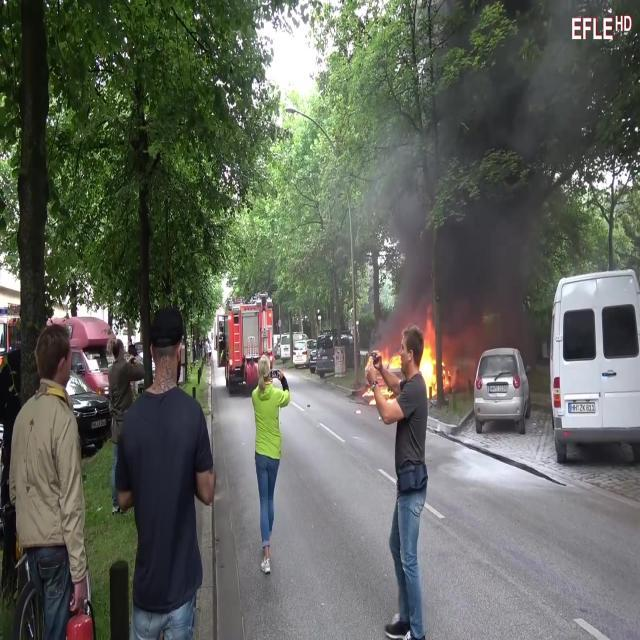Fire: (420, 340, 437, 395)
